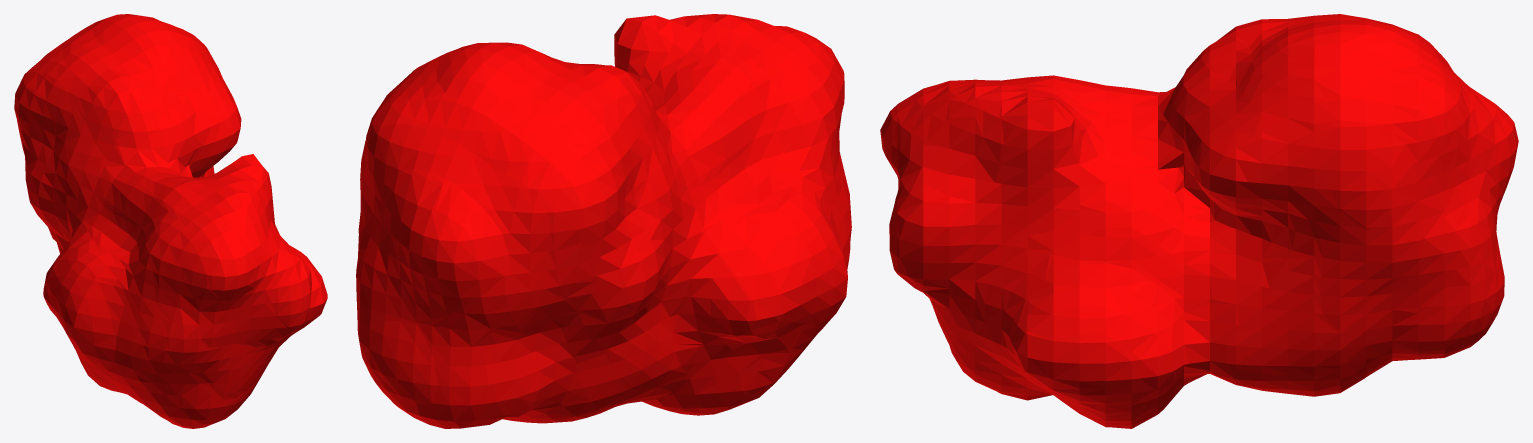
File: nth_coarse.dae
The picture shows the model from 3 angles, left to right: view 1: azimuth 30°, elevation 25°; view 2: azimuth 150°, elevation 25°; view 3: azimuth 270°, elevation 25°; orthographic projection. The views are drawn at different scales.
Visible parts, largest first — view 1: nth; view 2: nth; view 3: nth.
Boxes of the visible parts, <box> form: nth: <box>14,14,327,428</box>; nth: <box>356,14,851,428</box>; nth: <box>880,14,1518,428</box>.
Size of the model in its own units: 38.03 by 45.31 by 63.55.
